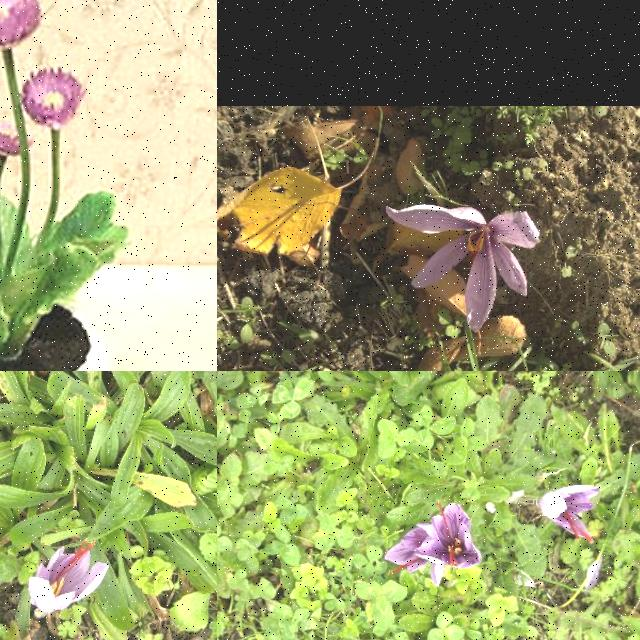flower: (385, 205, 541, 333), (29, 540, 110, 616), (539, 486, 601, 542)
overlap: (385, 502, 481, 588)
